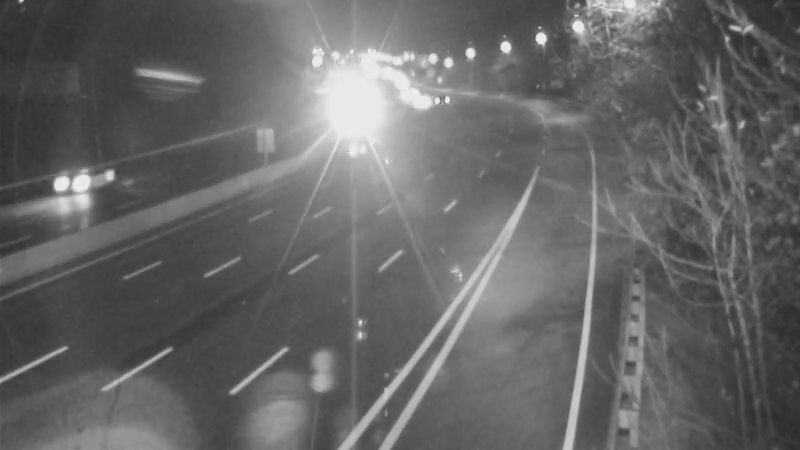vehicle: (43, 142, 123, 222), (387, 71, 437, 121), (418, 74, 468, 124), (397, 78, 447, 128)
